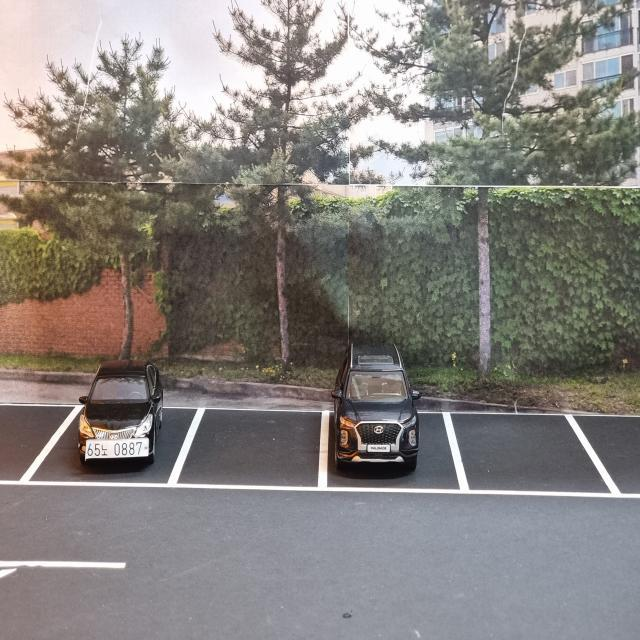empty: (442, 410, 598, 496), (188, 406, 322, 490), (0, 401, 78, 487), (598, 399, 640, 497)
occupied: (331, 344, 423, 480), (80, 354, 166, 462)
